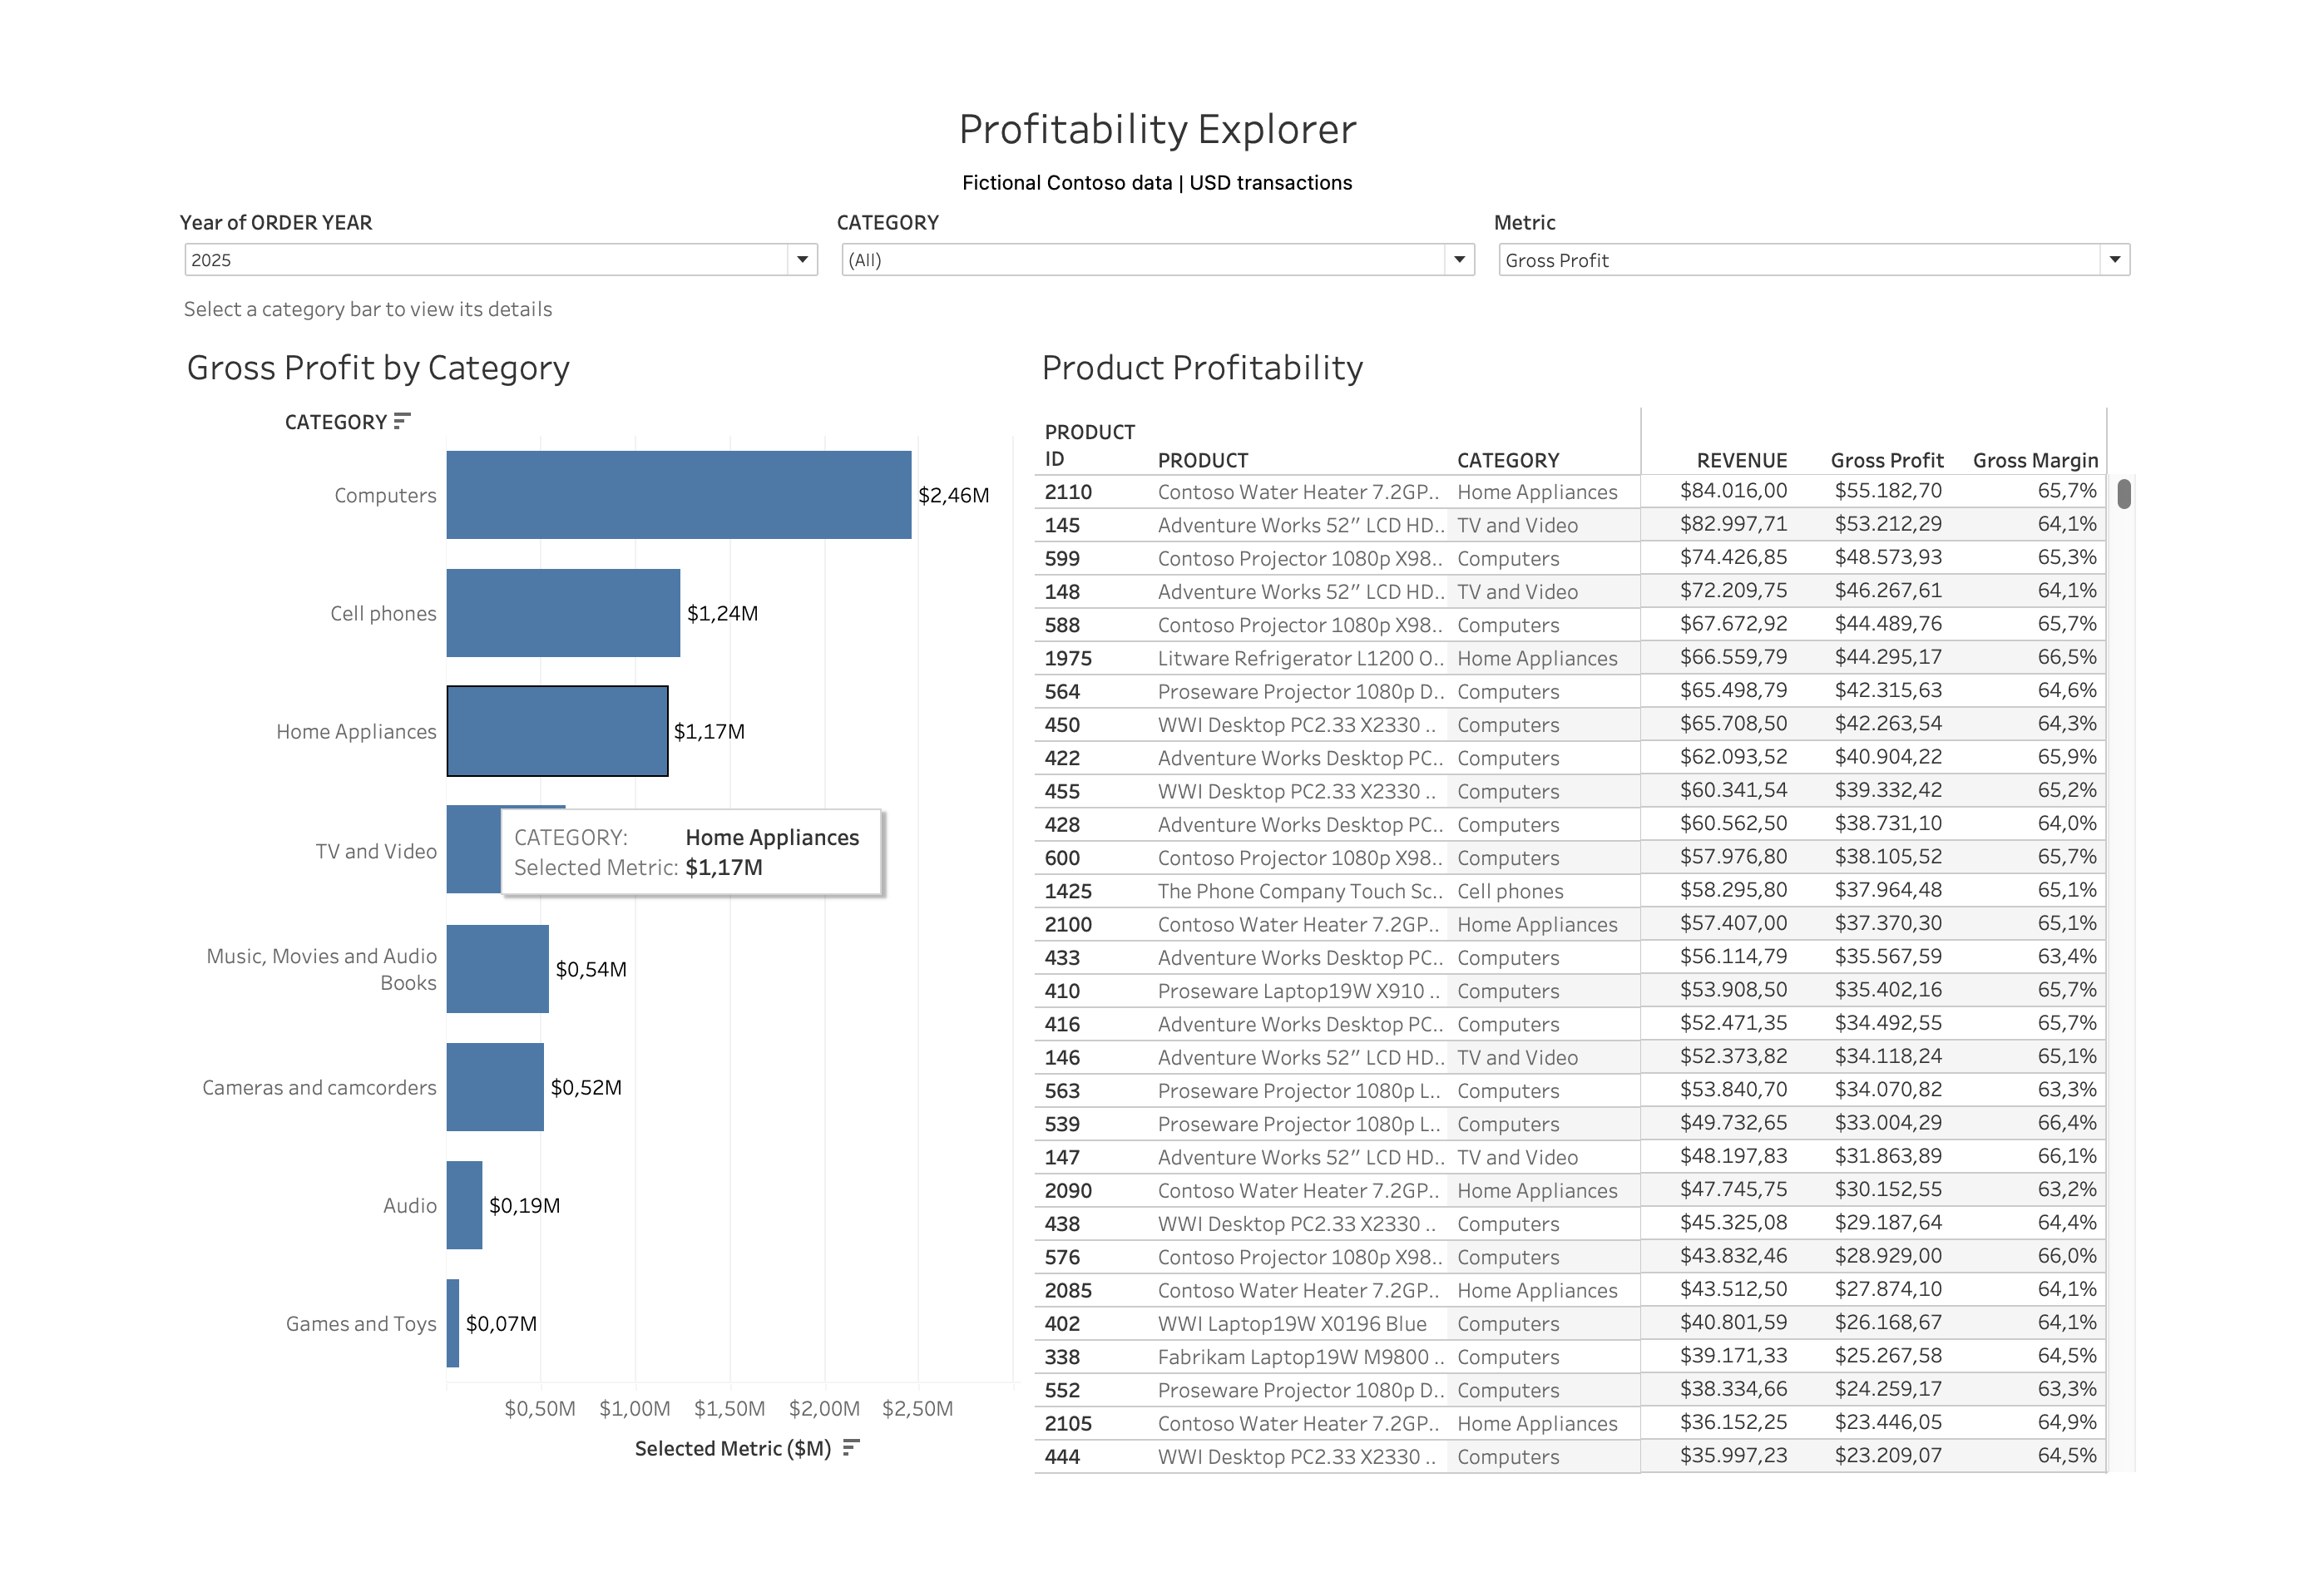

The page's visual inventory and layout, read from the dashboard file:
{"tool":"tableau","page":{"name":"2 Profitability Explorer","canvas":[1200,850],"ordinal":1},"visuals":[{"type":"title","box":[8,8,1184,42]},{"type":"text","box":[8,50,1184,23]},{"type":"filter","title":"07 Category Explorer","param":"[federated.0wc9mog19mnc4j17oa5d400orr0l].[yr:ORDER YEAR:ok]","box":[8,73,395,52]},{"type":"filter","title":"07 Category Explorer","param":"[federated.0wc9mog19mnc4j17oa5d400orr0l].[none:CATEGORY:nk]","box":[403,73,395,52]},{"type":"parameter","param":"[Parameters].[Parameter 0707991989489665]","box":[798,73,394,52]},{"type":"text","box":[8,125,1184,25]},{"type":"worksheet","title":"07 Category Explorer","mark":"Automatic","rows":["CATEGORY"],"cols":["Calculation_0707991989821442"],"box":[8,150,514,692]},{"type":"worksheet","title":"08 Product Detail","mark":"Automatic","rows":["PRODUCT ID","PRODUCT","CATEGORY"],"box":[522,150,670,692]}]}

Visuals, with their boxes on the page's 1200x850 design canvas (x1, y1, x2, y2). These are canvas units, not pixel positions in the 2324x1582 screenshot, which may show the page scaled, cropped or inside an application window:
title: (x1=8, y1=8, x2=1192, y2=50)
text: (x1=8, y1=50, x2=1192, y2=73)
"07 Category Explorer" filter: (x1=8, y1=73, x2=403, y2=125)
"07 Category Explorer" filter: (x1=403, y1=73, x2=798, y2=125)
parameter: (x1=798, y1=73, x2=1192, y2=125)
text: (x1=8, y1=125, x2=1192, y2=150)
"07 Category Explorer" worksheet: (x1=8, y1=150, x2=522, y2=842)
"08 Product Detail" worksheet: (x1=522, y1=150, x2=1192, y2=842)
